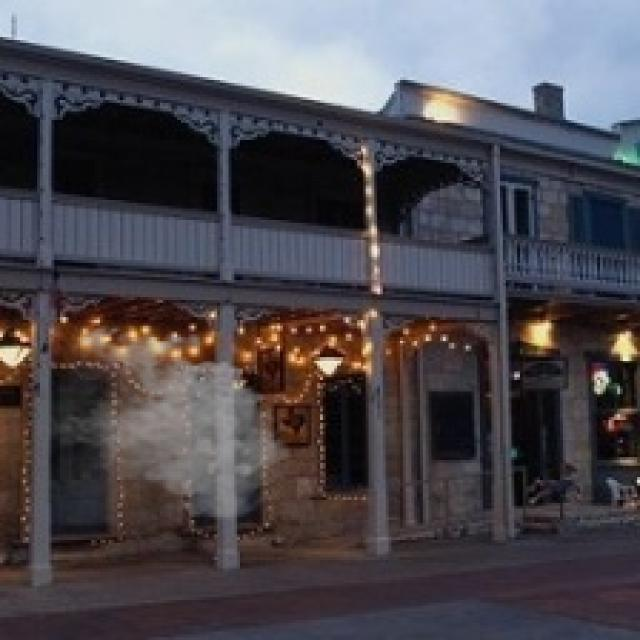smoke: (49, 320, 297, 526)
